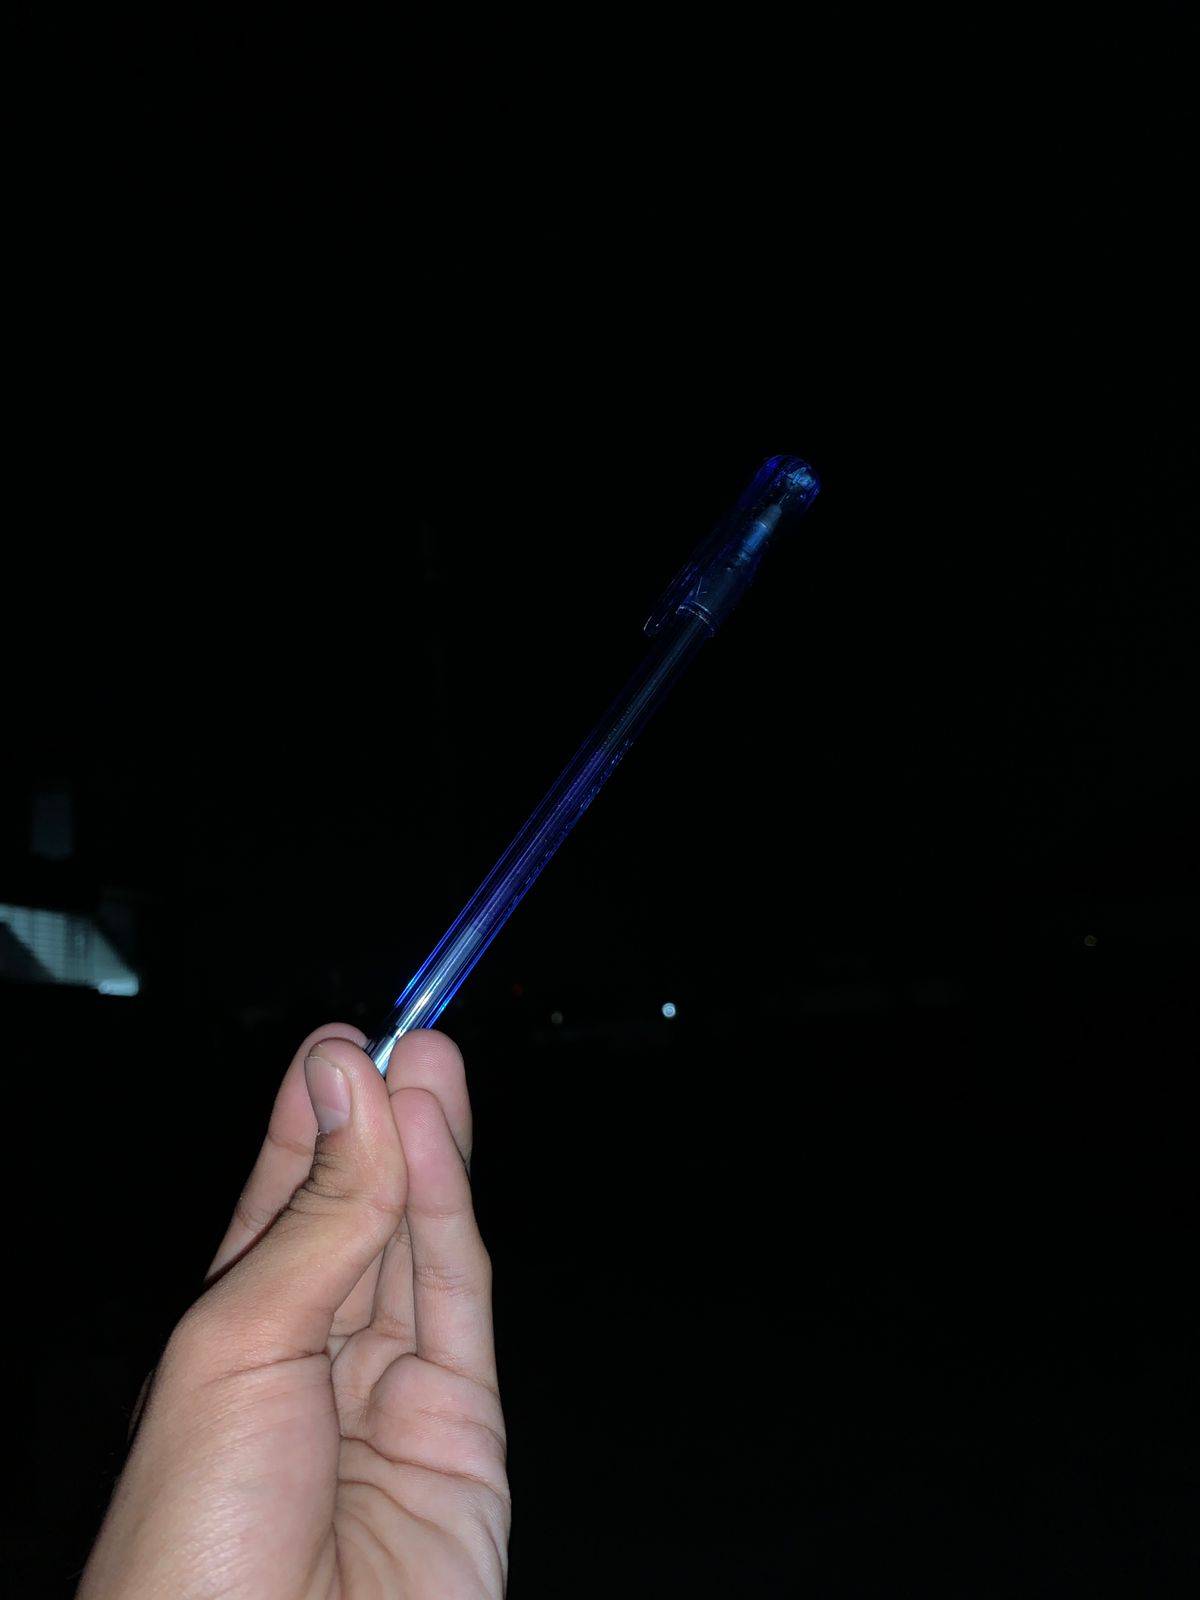pen: (270, 357, 874, 1220)
